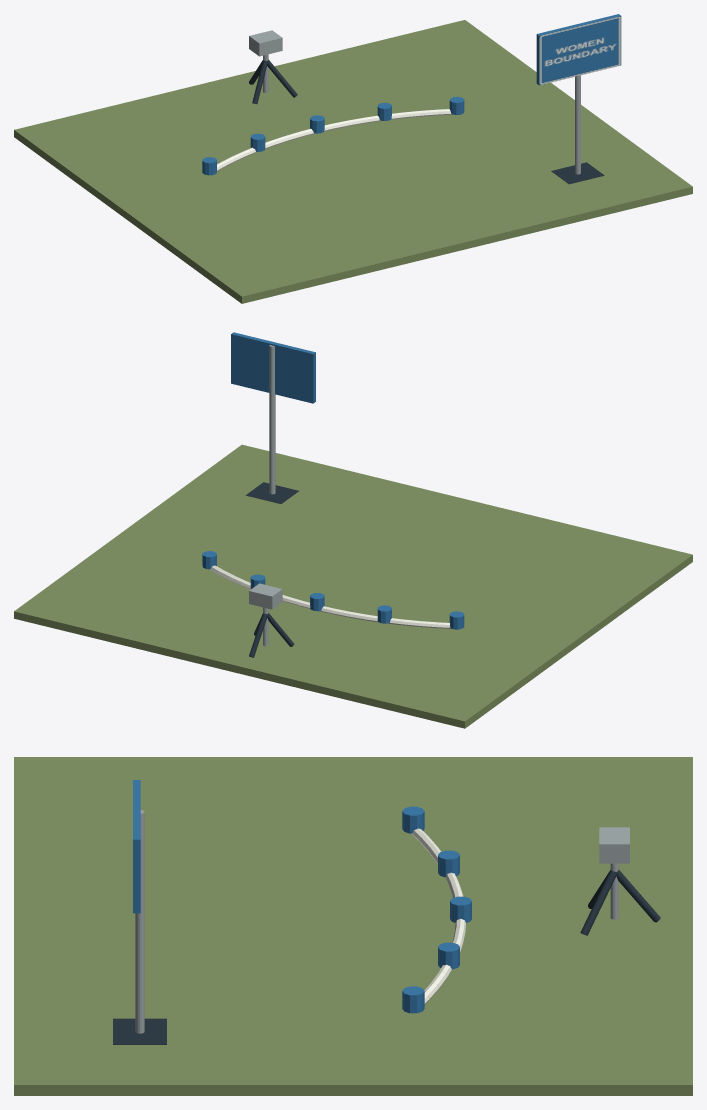
File: scendance-plan-boundary-calculator-women.glb
3 views of the same model, one above another, from view 1: azimuth 30°, elevation 25°; view 2: azimuth 150°, elevation 25°; view 3: azimuth 270°, elevation 25° (orthographic). The views are drawn at different scales.
Size of the model in its own units: 5.05 by 1.67 by 4.42.
Materials: 6 (1 with a texture image).
